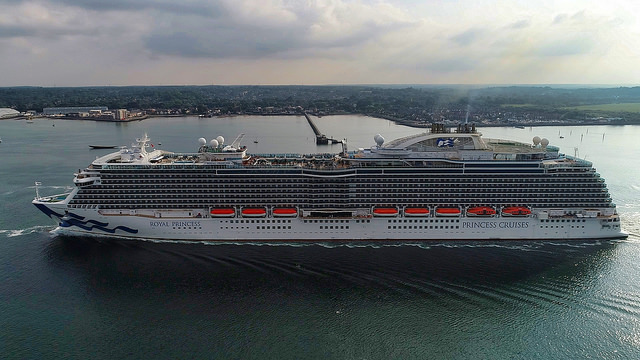cruise_ship: (30, 118, 634, 245)
